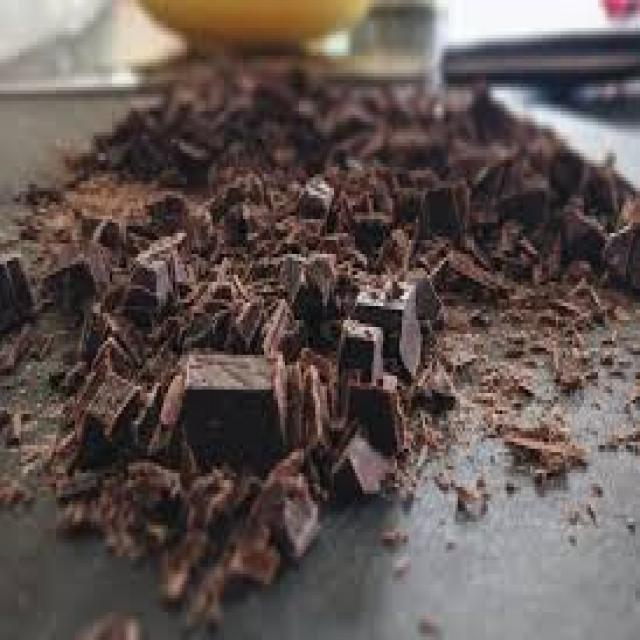Chocolate: (0, 76, 640, 640)
